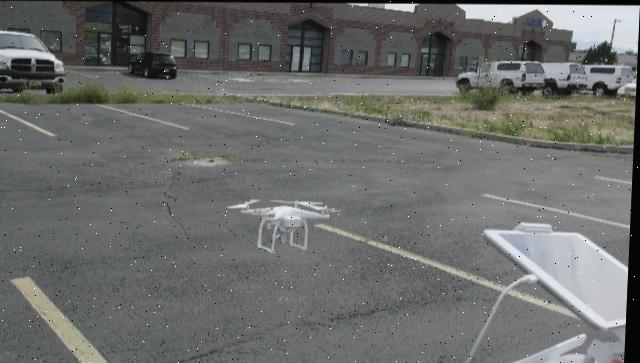drone: (230, 195, 340, 252)
